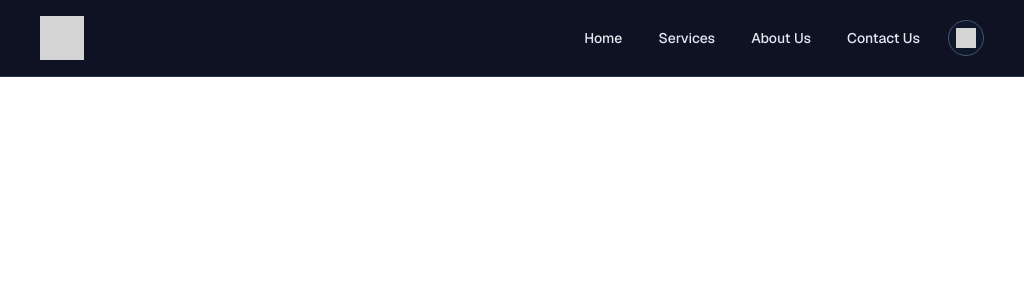
Test: SiteHeader › opens a compact services dropdown positioned under the Services button
The width and height of the screenshot is (1024, 287).
Click the button "Services": click(687, 38) x1=650 y1=24 x2=723 y2=52
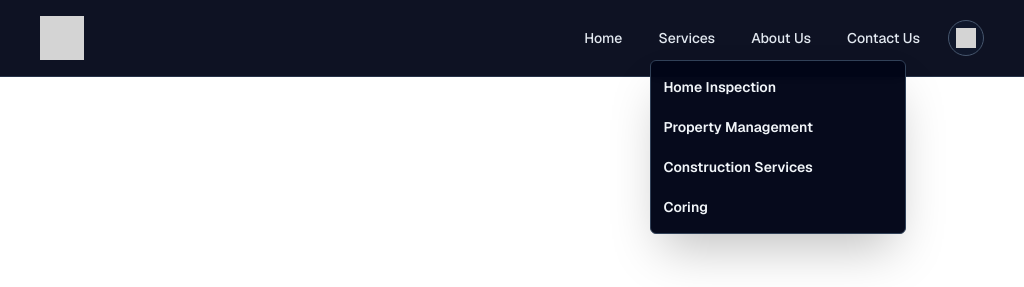
Now the link "Home Inspection" is shown, box x1=663 y1=78 x2=776 y2=96
Now the link "Property Management" is shown, box x1=663 y1=118 x2=813 y2=136
Now the link "Construction Services" is shown, box x1=663 y1=158 x2=813 y2=176
